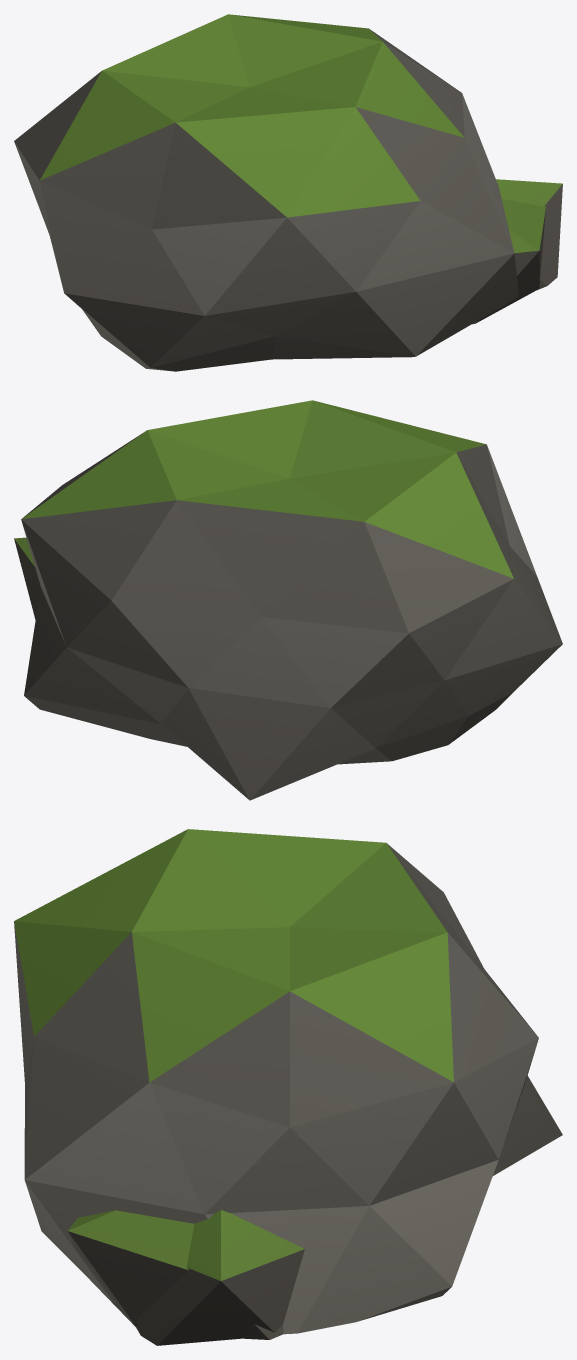
The model's file is e_rock_b.glb.
3 renders of one model, top to bottom at view 1: azimuth 30°, elevation 25°; view 2: azimuth 150°, elevation 25°; view 3: azimuth 270°, elevation 25°, orthographic. The views are drawn at different scales.
Visible parts, largest first — view 1: e_rock_b; view 2: e_rock_b; view 3: e_rock_b.
Part boxes in pixels (x1,y1,x2,y2): e_rock_b: [14, 14, 562, 371]; e_rock_b: [14, 400, 562, 800]; e_rock_b: [14, 829, 562, 1345].
Size of the model in its own units: 2.21 by 0.9818 by 1.67.
